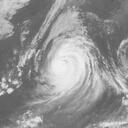cyclone: (42, 36, 96, 94)
